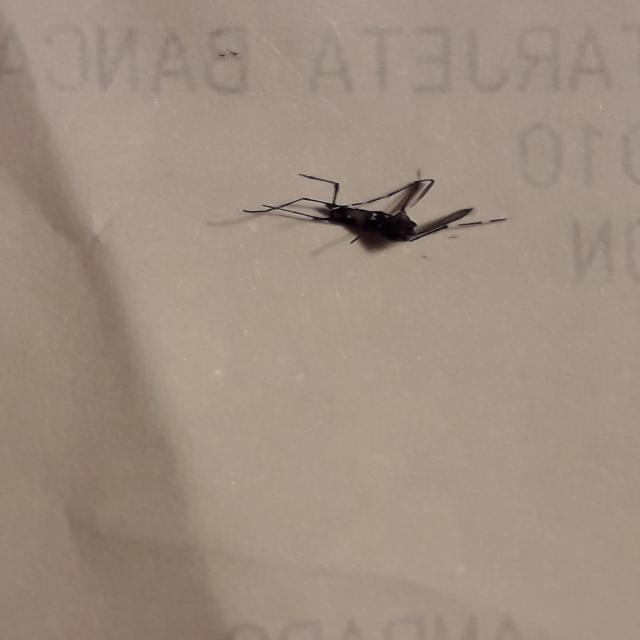albopictus: (233, 157, 522, 253)
